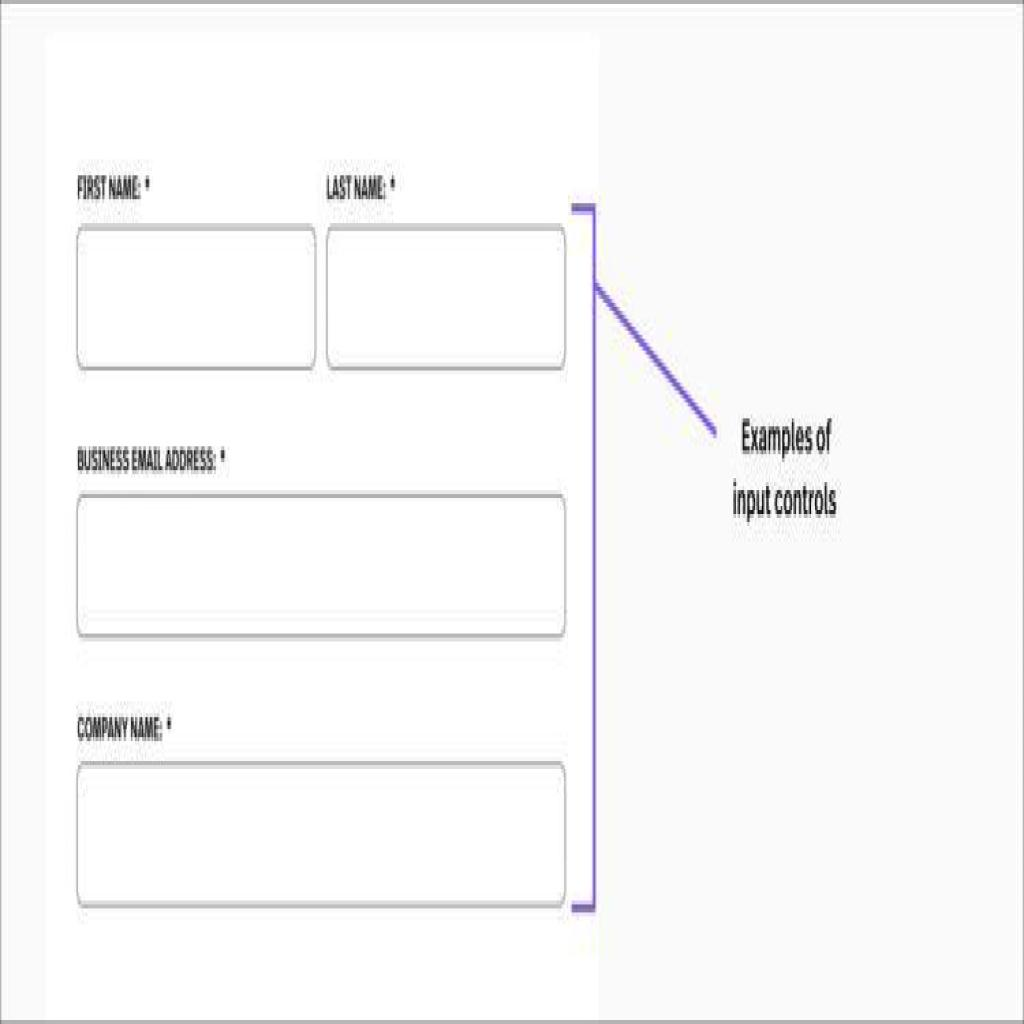input: (78, 761, 565, 904), (78, 498, 566, 634), (325, 223, 567, 375), (76, 223, 316, 371)
label: (75, 434, 229, 482), (72, 152, 154, 216), (75, 701, 179, 749), (326, 160, 403, 212)
